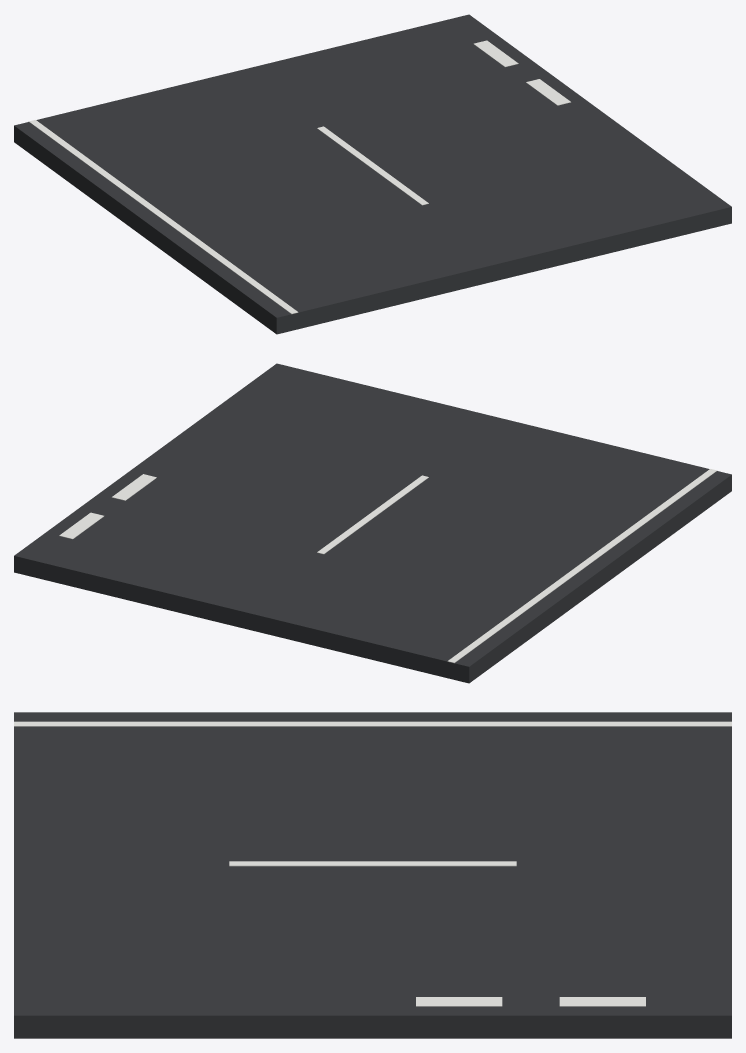
The model's file is Scenery_Road_T.fbx.
3 renders of one model, top to bottom at view 1: azimuth 30°, elevation 25°; view 2: azimuth 150°, elevation 25°; view 3: azimuth 270°, elevation 25°, orthographic. The views are drawn at different scales.
Parts seen in each view (by area): view 1: Scenery_Road_T; view 2: Scenery_Road_T; view 3: Scenery_Road_T.
Part boxes in pixels (left/top/right/bottom): Scenery_Road_T: left=14, top=14, right=731, bottom=334; Scenery_Road_T: left=14, top=363, right=731, bottom=683; Scenery_Road_T: left=14, top=712, right=731, bottom=1038.
Bounding box in the file's own units: 10 × 0.36 × 10.
